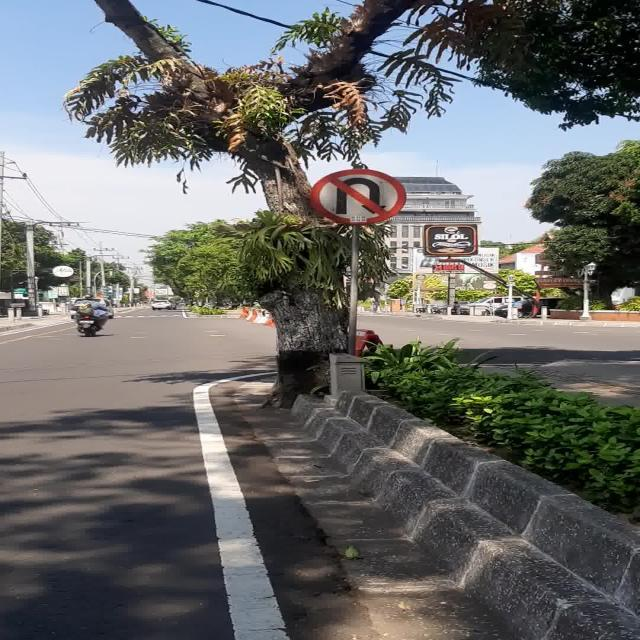Dilarang Putar Balik: (309, 169, 406, 224)
